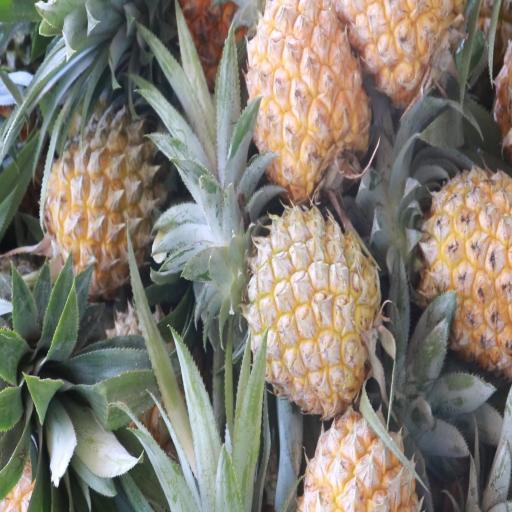------------------------------: (42, 110, 167, 288)
Pineapple - v8 v1: (250, 198, 380, 412), (243, 0, 371, 197), (417, 161, 512, 372), (301, 389, 438, 512)
